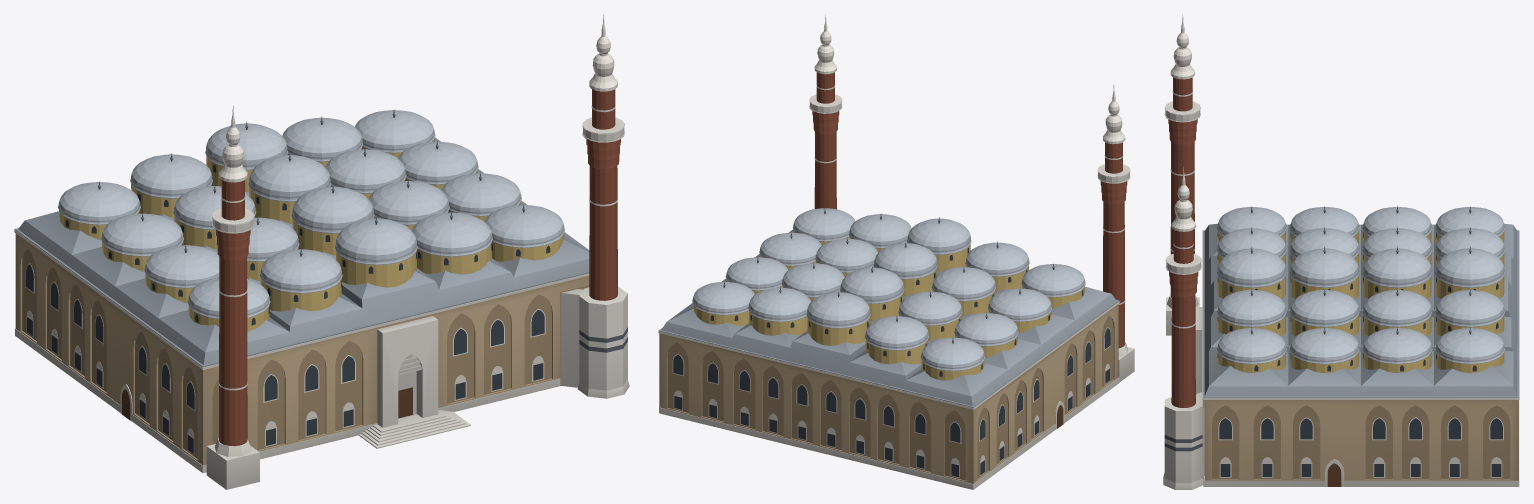
Rendered from ulu-cami_v02.glb.
The picture shows the model from 3 angles, left to right: view 1: azimuth 30°, elevation 25°; view 2: azimuth 150°, elevation 25°; view 3: azimuth 270°, elevation 25°; orthographic projection. The views are drawn at different scales.
Visible parts, largest first — view 1: Kubbeler_19, Cephe_Kuzey, Cati, Cephe_Dogu, Minare_1, Minare_2, Tac_Kapi, Sadirvan_Kubbe, Mermer_Bant, Silme_Ust, Kasnak_Pencereleri; view 2: Kubbeler_19, Cephe_Guney, Cati, Cephe_Dogu, Minare_2, Minare_1, Mermer_Bant, Sadirvan_Kubbe, Silme_Ust; view 3: Kubbeler_19, Cephe_Bati, Cati, Minare_1, Minare_2, Sadirvan_Kubbe, Mermer_Bant, Silme_Ust, Kasnak_Pencereleri, Tac_Kapi, Govde, Kapi_Bati.
Part boxes in pixels (x1,y1,x2,y2): Kubbeler_19: [58, 110, 564, 331]; Cephe_Kuzey: [202, 276, 589, 465]; Cati: [14, 137, 589, 367]; Cephe_Dogu: [16, 234, 201, 464]; Minare_1: [561, 15, 629, 398]; Minare_2: [206, 105, 259, 489]; Tac_Kapi: [358, 316, 470, 448]; Sadirvan_Kubbe: [291, 186, 374, 255]; Mermer_Bant: [15, 328, 560, 472]; Silme_Ust: [14, 230, 589, 369]; Kasnak_Pencereleri: [66, 148, 550, 325]; Kubbeler_19: [692, 208, 1085, 380]; Cephe_Guney: [659, 333, 973, 483]; Cati: [658, 229, 1119, 407]; Cephe_Dogu: [974, 304, 1117, 483]; Minare_2: [1097, 85, 1134, 382]; Minare_1: [809, 14, 842, 209]; Mermer_Bant: [659, 377, 1119, 489]; Sadirvan_Kubbe: [873, 243, 937, 296]; Silme_Ust: [658, 301, 1119, 409]; Kubbeler_19: [1217, 206, 1505, 373]; Cephe_Bati: [1204, 400, 1517, 480]; Cati: [1202, 223, 1519, 397]; Minare_1: [1163, 167, 1204, 489]; Minare_2: [1164, 14, 1200, 335]; Sadirvan_Kubbe: [1289, 248, 1359, 298]; Mermer_Bant: [1203, 400, 1519, 486]; Silme_Ust: [1202, 231, 1519, 399]; Kasnak_Pencereleri: [1217, 232, 1498, 371]; Tac_Kapi: [1195, 307, 1202, 394]; Govde: [1212, 418, 1510, 478]; Kapi_Bati: [1325, 459, 1344, 486].
Size of the model in its own units: 70.31 by 61.1 by 62.7.
